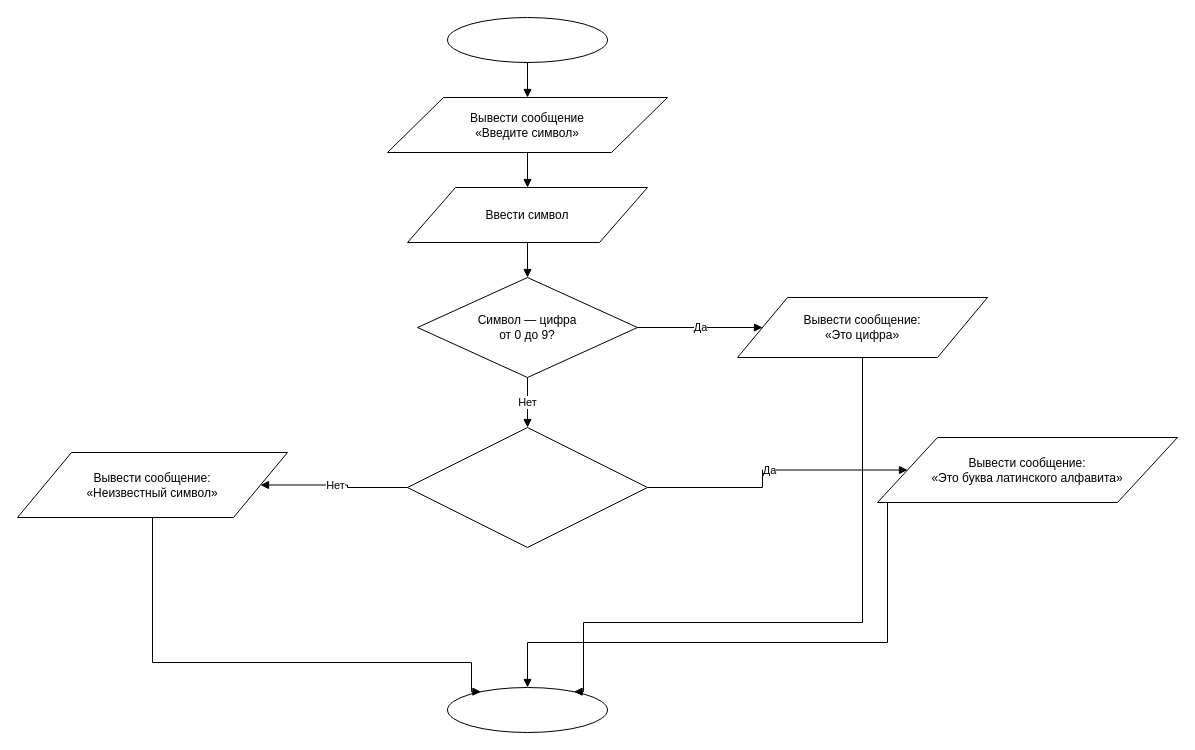
Some shapes in this 1195 by 750 pixel diagram are drawn without their labels. The box of each missing label's shape, as (x1, y1, x2, y2) in pixels:
Конец: (446, 686, 608, 732)
Начало: (446, 16, 608, 62)
Символ — латинская буква от A до Z или от a до z?: (406, 426, 648, 548)
